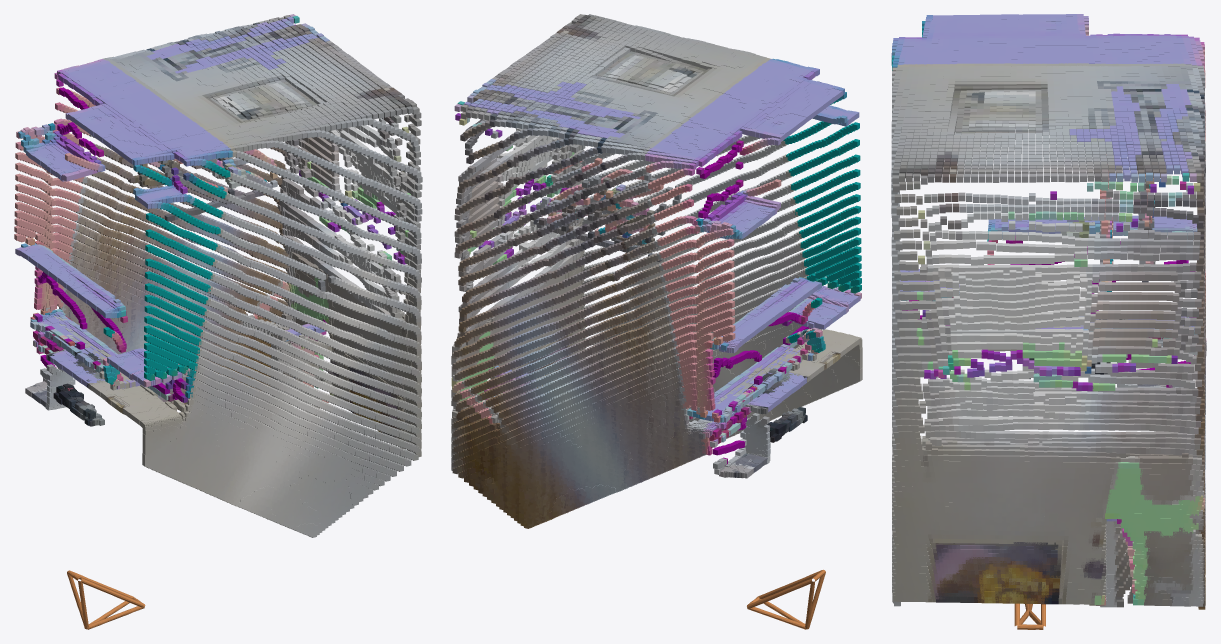
The picture shows the model from 3 angles, left to right: view 1: azimuth 30°, elevation 25°; view 2: azimuth 150°, elevation 25°; view 3: azimuth 270°, elevation 25°; orthographic projection. The views are drawn at different scales.
Bounding box in the file's own units: 3.26 × 5.08 × 2.41.
